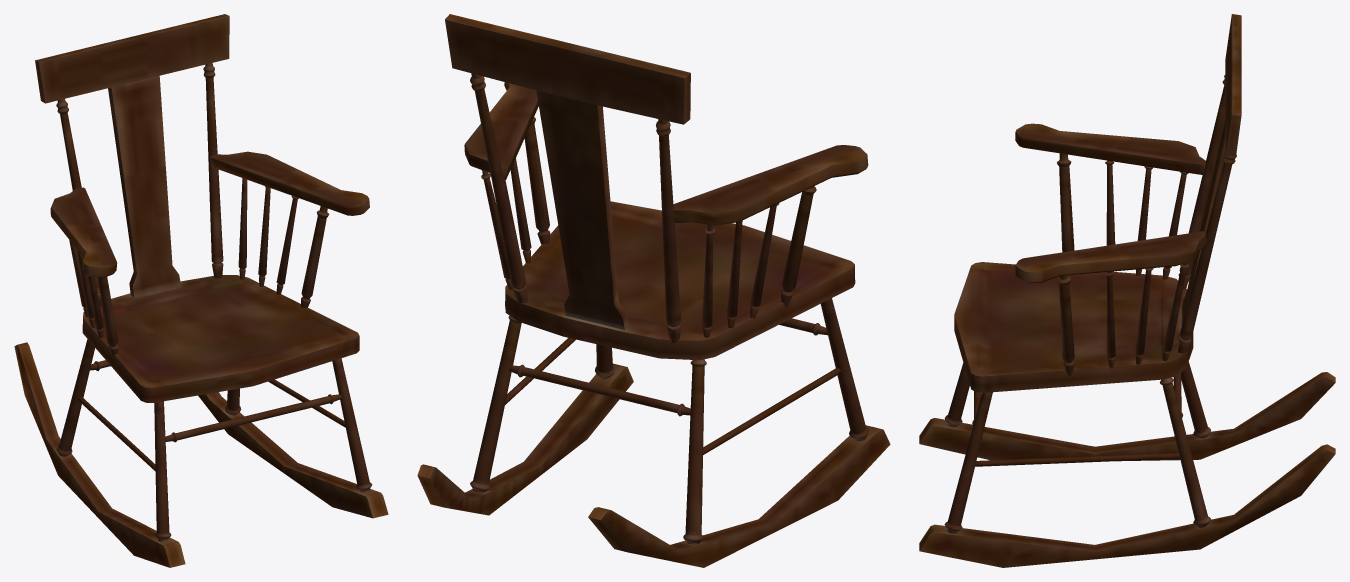
3 renders of one model, left to right at view 1: azimuth 30°, elevation 25°; view 2: azimuth 150°, elevation 25°; view 3: azimuth 270°, elevation 25°, orthographic. The views are drawn at different scales.
Visible parts, largest first — view 1: Rockingchair_01; view 2: Rockingchair_01; view 3: Rockingchair_01.
Part boxes in pixels (x1=…): Rockingchair_01: x1=14, y1=14, x2=388, y2=567; Rockingchair_01: x1=417, y1=14, x2=890, y2=567; Rockingchair_01: x1=919, y1=14, x2=1335, y2=567.
Bounding box in the file's own units: 0.7081 × 0.9879 × 0.8335.
1 material, 1 textured.
